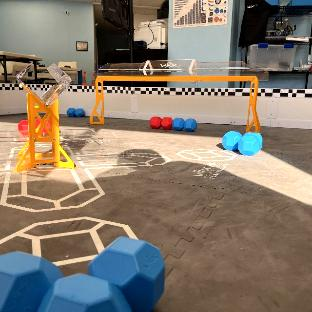Goal: (90, 59, 267, 130), (16, 64, 74, 171)
V5_BLUE: (0, 237, 163, 312), (222, 131, 261, 156), (173, 117, 196, 130), (68, 108, 84, 117)
V5_RED: (150, 117, 172, 129), (18, 120, 27, 135)
